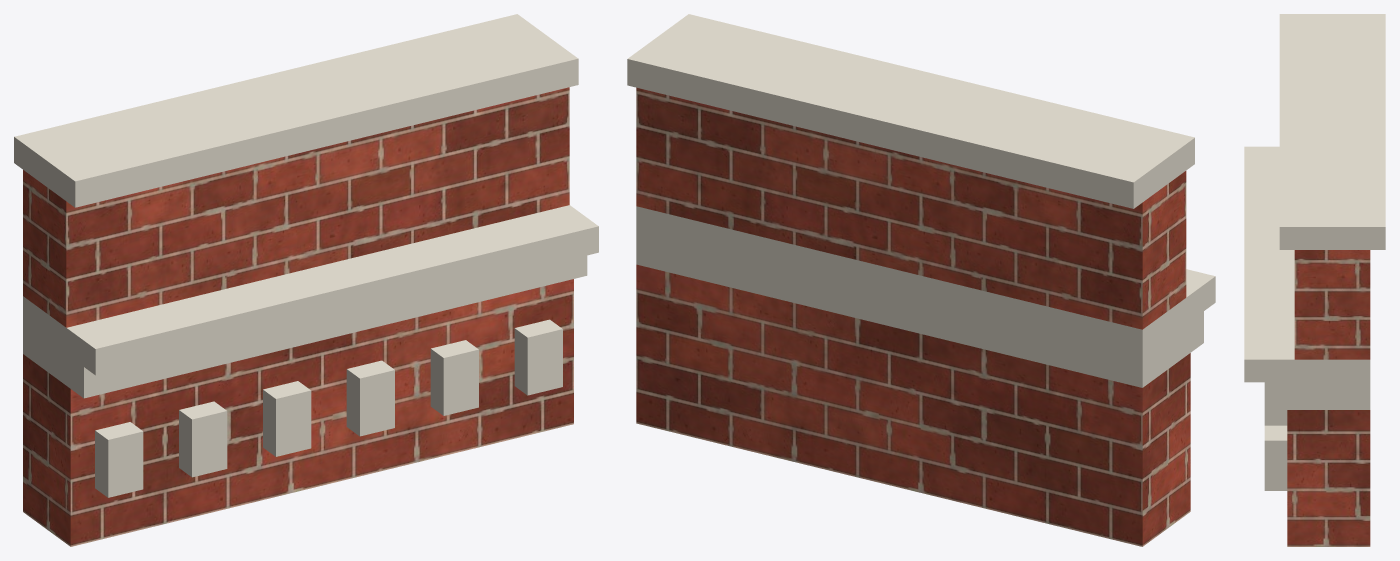
Rendered from cornice_parapet.glb.
3 renders of one model, left to right at view 1: azimuth 30°, elevation 25°; view 2: azimuth 150°, elevation 25°; view 3: azimuth 270°, elevation 25°, orthographic. The views are drawn at different scales.
Visible parts, largest first — view 1: cornice_parapet_brick, cornice_parapet_trim; view 2: cornice_parapet_brick, cornice_parapet_trim; view 3: cornice_parapet_trim, cornice_parapet_brick.
Boxes of the visible parts, <box> form: cornice_parapet_brick: <box>23,87,573,546</box>; cornice_parapet_trim: <box>14,14,598,497</box>; cornice_parapet_brick: <box>636,87,1190,546</box>; cornice_parapet_trim: <box>627,14,1215,387</box>; cornice_parapet_trim: <box>1244,14,1385,490</box>; cornice_parapet_brick: <box>1287,250,1370,546</box>.
Bounding box in the file's own units: 2 × 1.4 × 0.56.
Materials: 2 (1 with a texture image).
